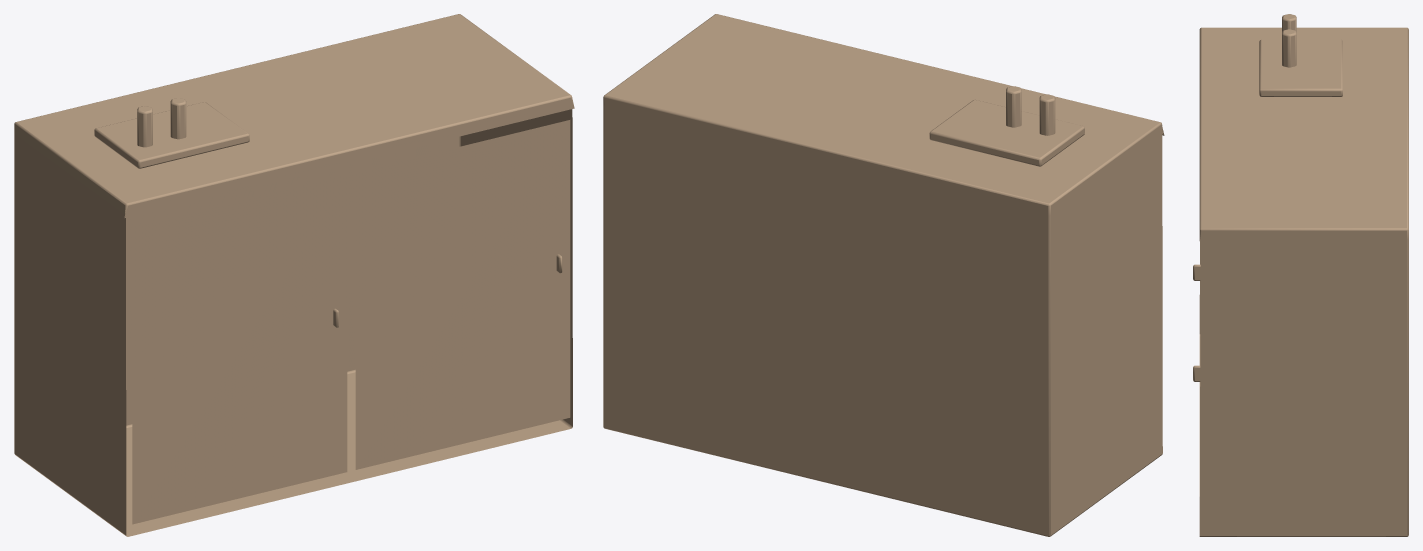
Rendered from TuThap_Sanh.glb.
The picture shows the model from 3 angles, left to right: view 1: azimuth 30°, elevation 25°; view 2: azimuth 150°, elevation 25°; view 3: azimuth 270°, elevation 25°; orthographic projection. The views are drawn at different scales.
Parts seen in each view (by area): view 1: geometry_0; view 2: geometry_0; view 3: geometry_0.
Boxes of the visible parts, x1,y1,x2,y2 form: geometry_0: (14,14,574,536); geometry_0: (603,14,1164,536); geometry_0: (1193,14,1408,536).
Size of the model in its own units: 0.806 by 0.645 by 0.361.
